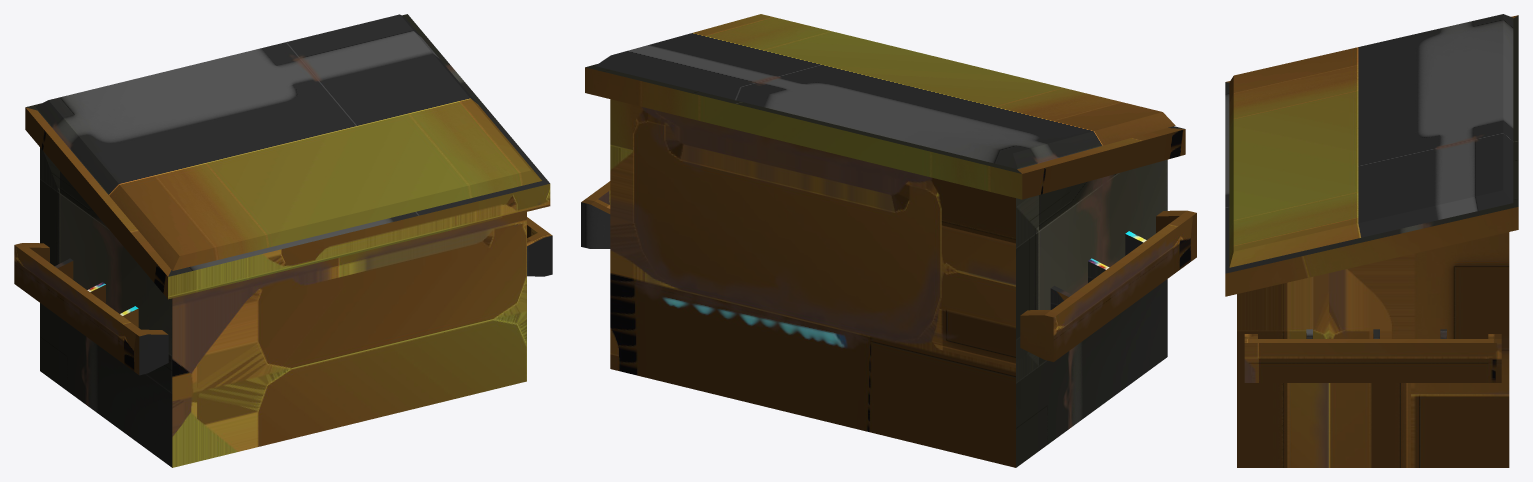
The model's file is chast_trash.fbx.
3 renders of one model, left to right at view 1: azimuth 30°, elevation 25°; view 2: azimuth 150°, elevation 25°; view 3: azimuth 270°, elevation 25°, orthographic. The views are drawn at different scales.
Visible parts, largest first — view 1: TRASH_box.low; view 2: TRASH_box.low; view 3: TRASH_box.low.
Boxes of the visible parts, left/top/right/bottom form: TRASH_box.low: left=14, top=14, right=552, bottom=467; TRASH_box.low: left=581, top=14, right=1196, bottom=467; TRASH_box.low: left=1225, top=14, right=1518, bottom=467.
Bounding box in the file's own units: 233 × 146 × 139.
